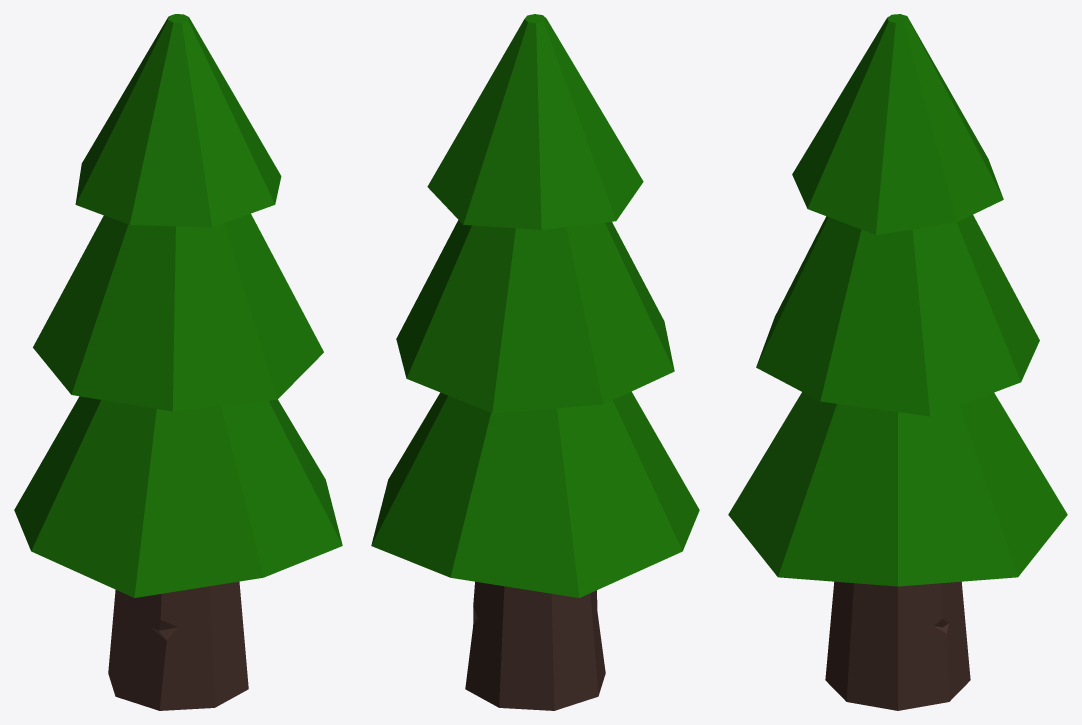
File: low_poly_tree.glb
3 renders of one model, left to right at view 1: azimuth 30°, elevation 25°; view 2: azimuth 150°, elevation 25°; view 3: azimuth 270°, elevation 25°, orthographic.
Parts seen in each view (by area): view 1: tree; view 2: tree; view 3: tree.
Part boxes in pixels (bbox=[...]): tree: bbox=[14, 14, 342, 710]; tree: bbox=[371, 14, 699, 710]; tree: bbox=[728, 14, 1067, 710].
Size of the model in its own units: 1.86 by 4 by 1.86.
